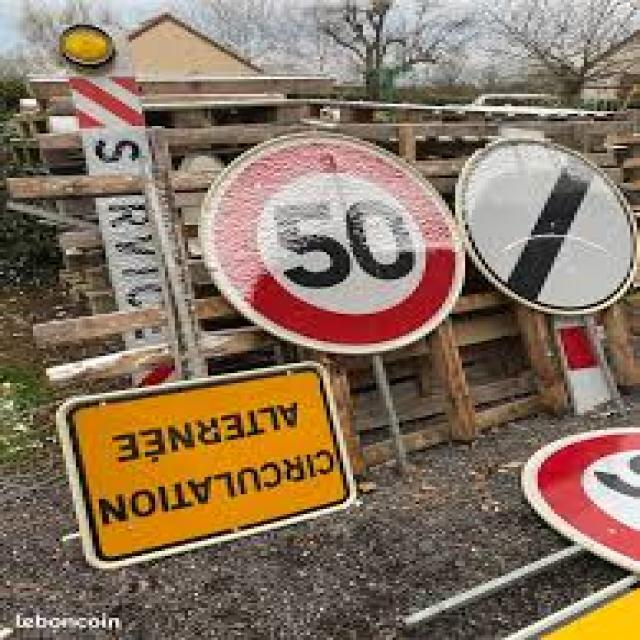speed_50: (197, 129, 464, 358)
